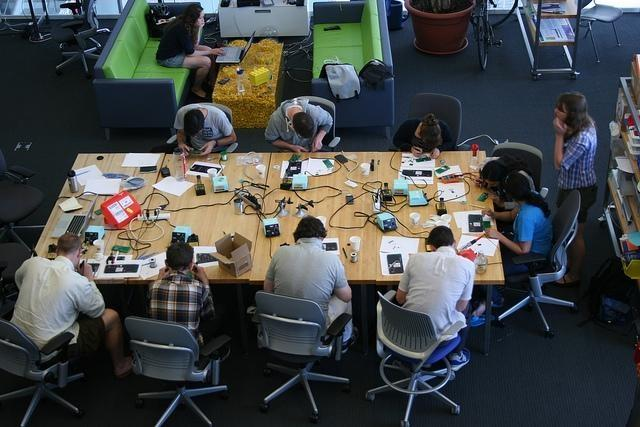bicycle: (470, 0, 502, 70)
